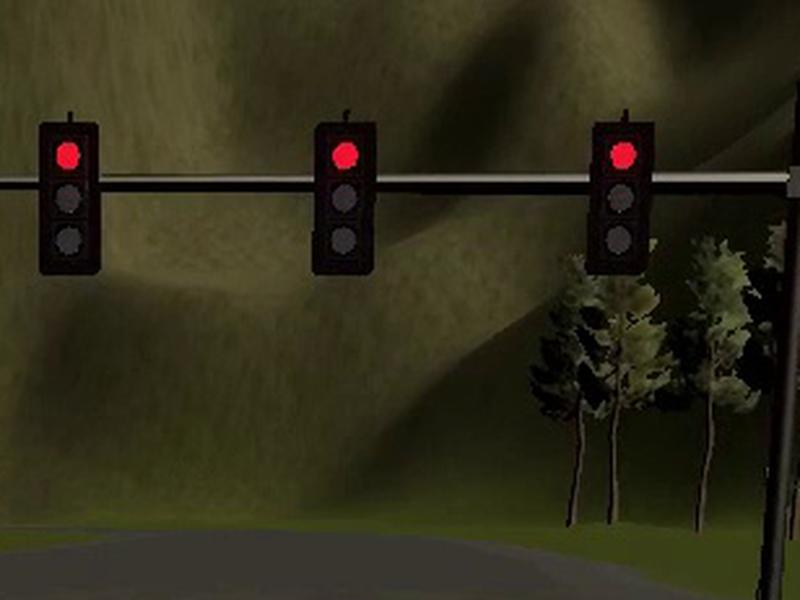Red: (588, 121, 653, 273), (313, 121, 376, 276), (37, 122, 100, 275)
